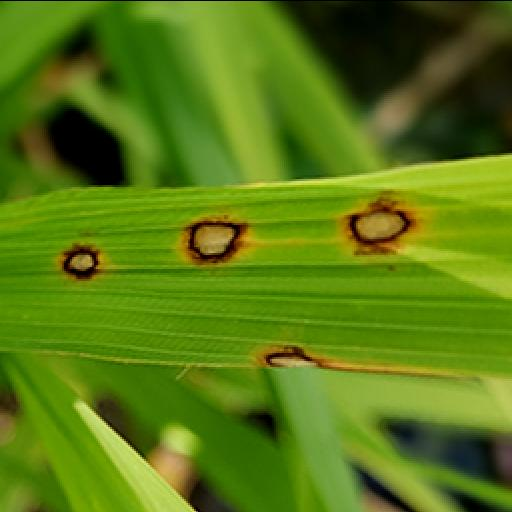Brown Spot: (340, 190, 426, 260), (176, 208, 258, 272), (256, 336, 360, 376), (48, 234, 108, 284)
